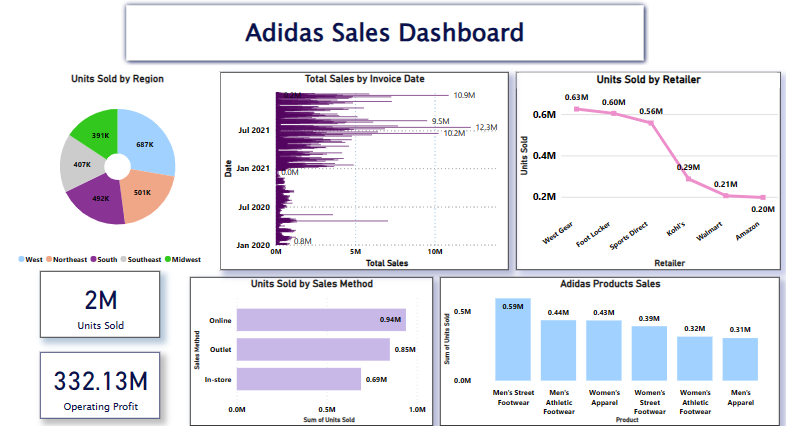

What the dashboard file says about the page in this screenshot:
{"tool":"powerbi","page":{"name":"Page 1","canvas":[1280,720],"ordinal":0},"visuals":[{"type":"shape","box":[171.4,10.1,879.8,109.4],"z":0},{"type":"card","fields":{"Values":["Sum(Data Sales Adidas (2).Operating Profit)"]},"box":[37.4,596.2,200.2,110.9],"z":2000},{"type":"card","fields":{"Values":["Sum(Data Sales Adidas (2).Units Sold)"]},"box":[37.4,462.2,200.2,110.9],"z":3000},{"type":"lineChart","title":"Units Sold by Retailer","fields":{"Category":["Data Sales Adidas (2).Retailer"],"Y":["Sum(Data Sales Adidas (2).Units Sold)"]},"box":[829.4,129.6,440.6,329.8],"z":4000},{"type":"clusteredBarChart","title":"Units Sold by Sales Method","fields":{"Category":["Data Sales Adidas (2).Sales Method"],"Y":["Sum(Data Sales Adidas (2).Units Sold)"]},"box":[286.6,472.3,404.6,247.7],"z":5000},{"type":"barChart","title":"Total Sales by Invoice Date","fields":{"Y":["Sum(Data Sales Adidas (2).Total Sales)"],"Category":["Data Sales Adidas (2).Invoice Date"]},"box":[337,129.6,481,329.8],"z":6000},{"type":"columnChart","title":"Adidas Products Sales","fields":{"Category":["Data Sales Adidas (2).Product"],"Y":["Sum(Data Sales Adidas (2).Units Sold)"]},"box":[704.2,472.3,565.9,247.7],"z":7000},{"type":"donutChart","title":"Units Sold by Region","fields":{"Category":["Data Sales Adidas (2).Region"],"Y":["Sum(Data Sales Adidas (2).Units Sold)"]},"box":[0,129.6,337,329.8],"z":7001}]}

Visuals, with their boxes in screenshot pixels (x1, y1, x2, y2), scaled from the page's 1280x720 canvas onto the 790x433 screenshot:
shape: pyautogui.locateOnScreen(106, 6, 649, 72)
card - Sum(Data Sales Adidas (2).Operating Profit): pyautogui.locateOnScreen(23, 359, 147, 425)
card - Sum(Data Sales Adidas (2).Units Sold): pyautogui.locateOnScreen(23, 278, 147, 345)
"Units Sold by Retailer" lineChart: pyautogui.locateOnScreen(512, 78, 784, 276)
"Units Sold by Sales Method" clusteredBarChart: pyautogui.locateOnScreen(177, 284, 427, 432)
"Total Sales by Invoice Date" barChart: pyautogui.locateOnScreen(208, 78, 505, 276)
"Adidas Products Sales" columnChart: pyautogui.locateOnScreen(435, 284, 784, 432)
"Units Sold by Region" donutChart: pyautogui.locateOnScreen(0, 78, 208, 276)
